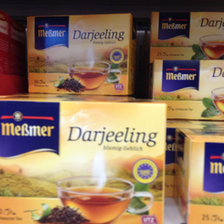tea: (1, 96, 168, 224), (25, 12, 134, 96), (151, 59, 224, 123), (149, 9, 224, 61)
